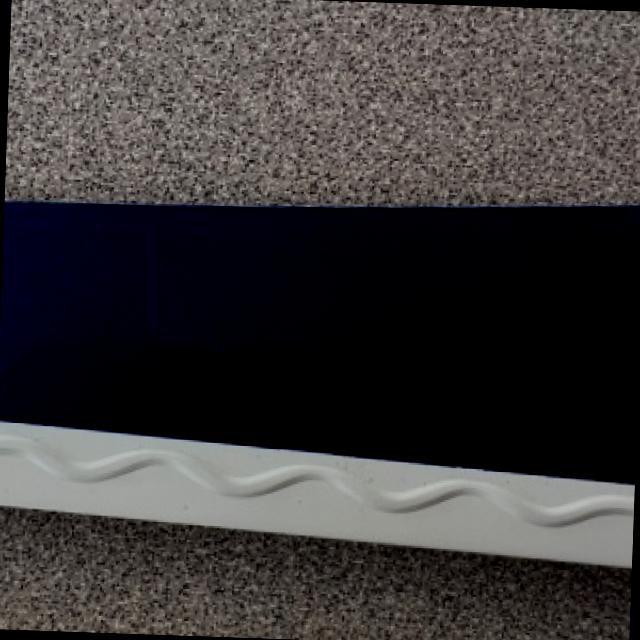healthy: (0, 200, 638, 566)
